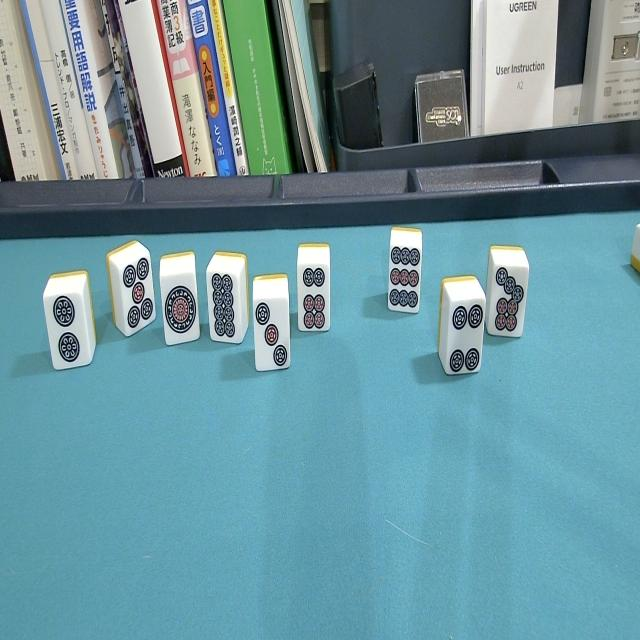1_pin: (159, 252, 201, 350)
2_pin: (43, 271, 97, 380)
3_pin: (251, 272, 293, 380)
4_pin: (436, 275, 488, 381)
5_pin: (106, 241, 156, 341)
6_pin: (296, 242, 334, 339)
7_pin: (486, 243, 532, 346)
8_pin: (207, 252, 249, 350)
9_pin: (385, 222, 425, 322)
